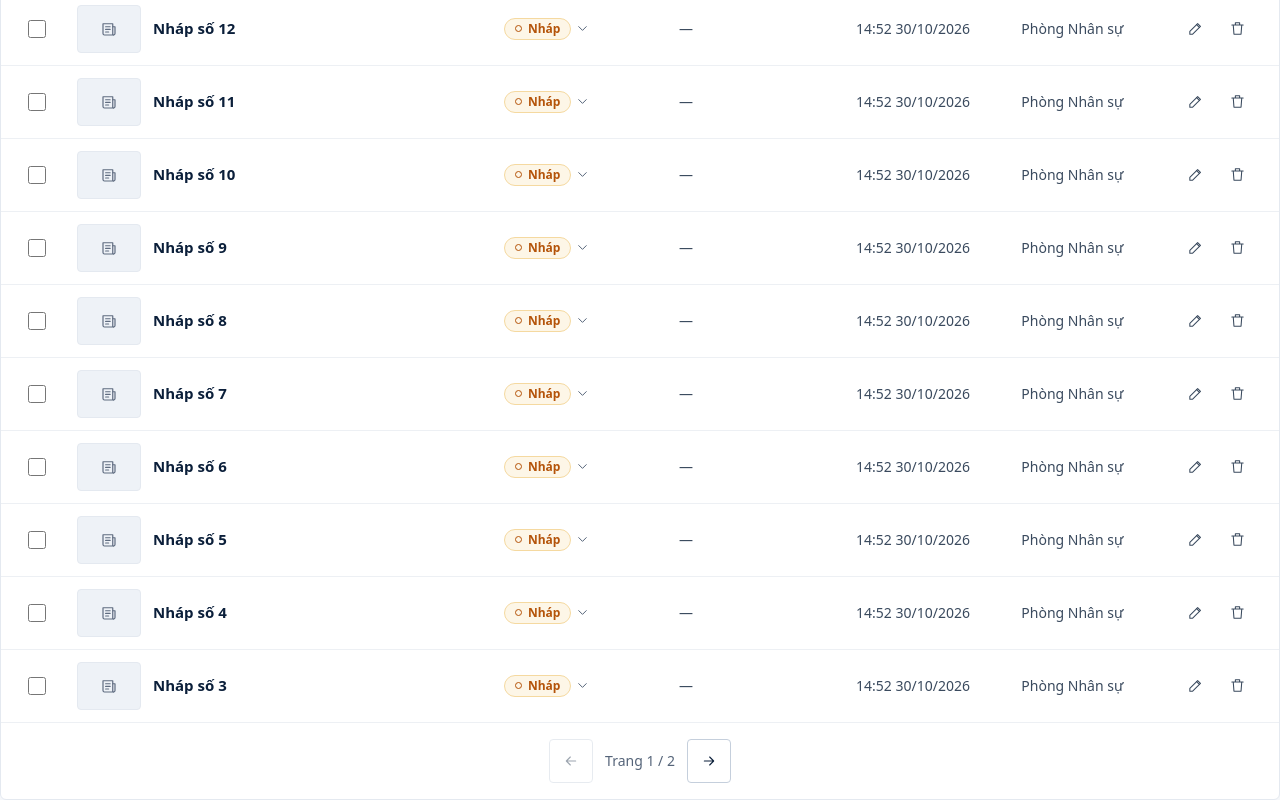
HR news list › should show 20 posts a page and move between pages
(page scrolled)
Expected: the text "Trang 1 / 2" is shown, [605,750,675,770]
Step 1. Click the button named "Trang sau" → (709, 760), box [687,738,731,782]
(page scrolled)
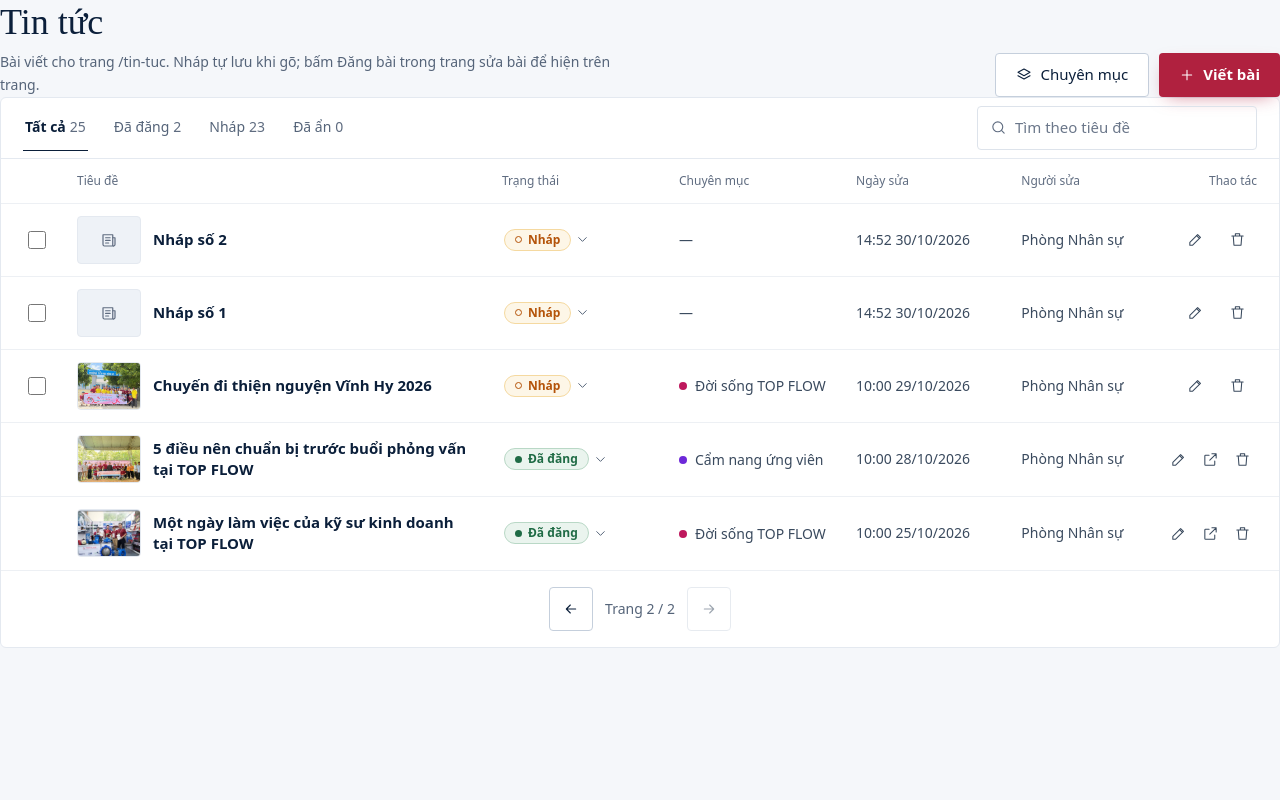
Expected: the text "Trang 2 / 2" is shown, [605,598,675,618]
